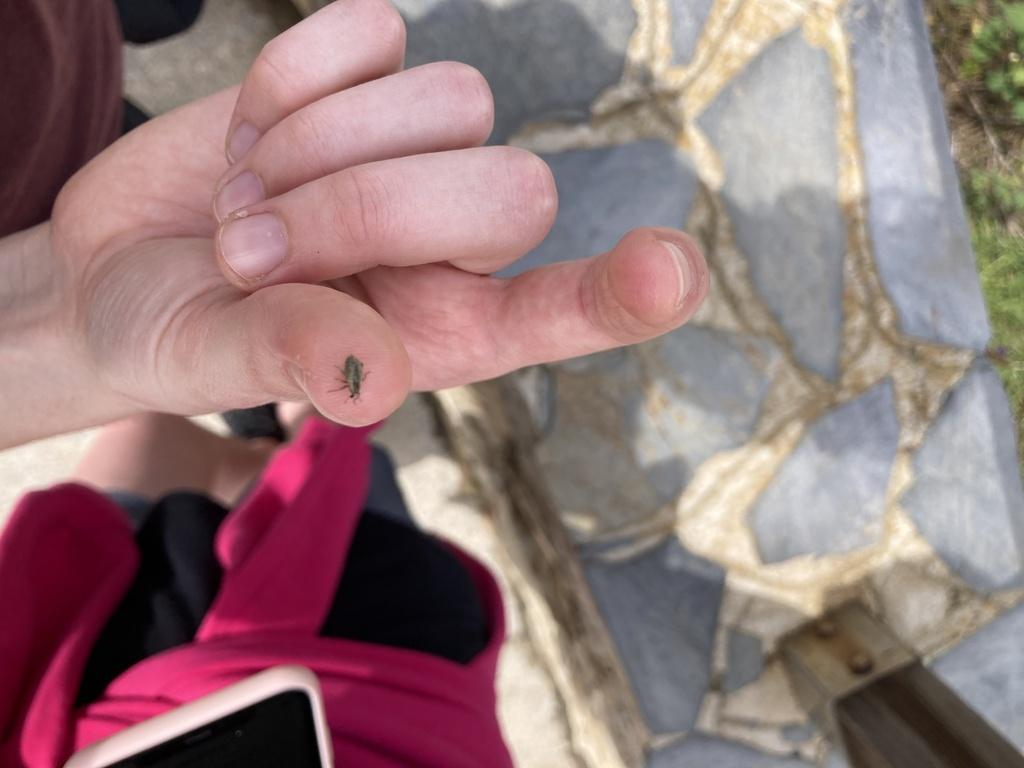weevils: (317, 341, 384, 410)
